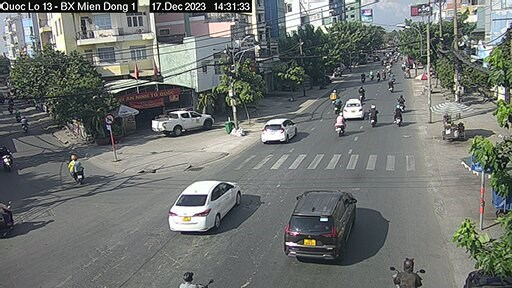car: (167, 176, 244, 232), (294, 187, 355, 256), (151, 107, 215, 135), (259, 115, 302, 143), (344, 96, 367, 118)
motorbike: (329, 110, 348, 135), (367, 106, 380, 129), (392, 109, 406, 125)
